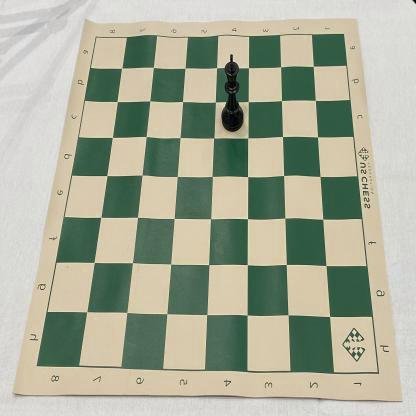black-king: (220, 54, 244, 132)
